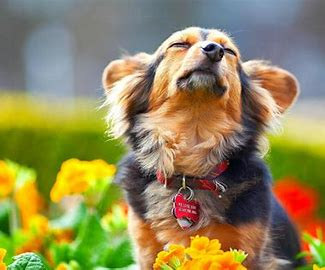dog: (99, 26, 308, 257)
